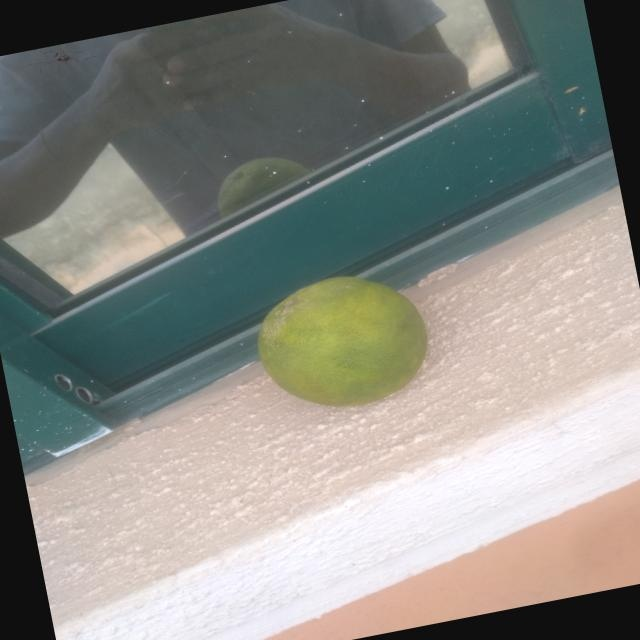agrume: (236, 256, 447, 428)
